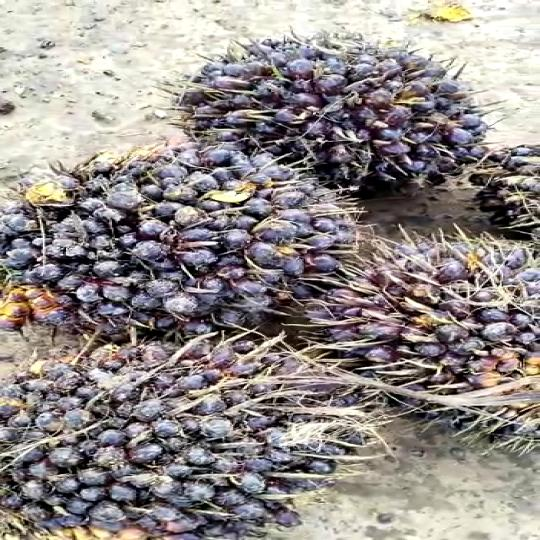mentah: (7, 343, 373, 540), (7, 124, 365, 325), (173, 26, 481, 196), (303, 225, 535, 444)
